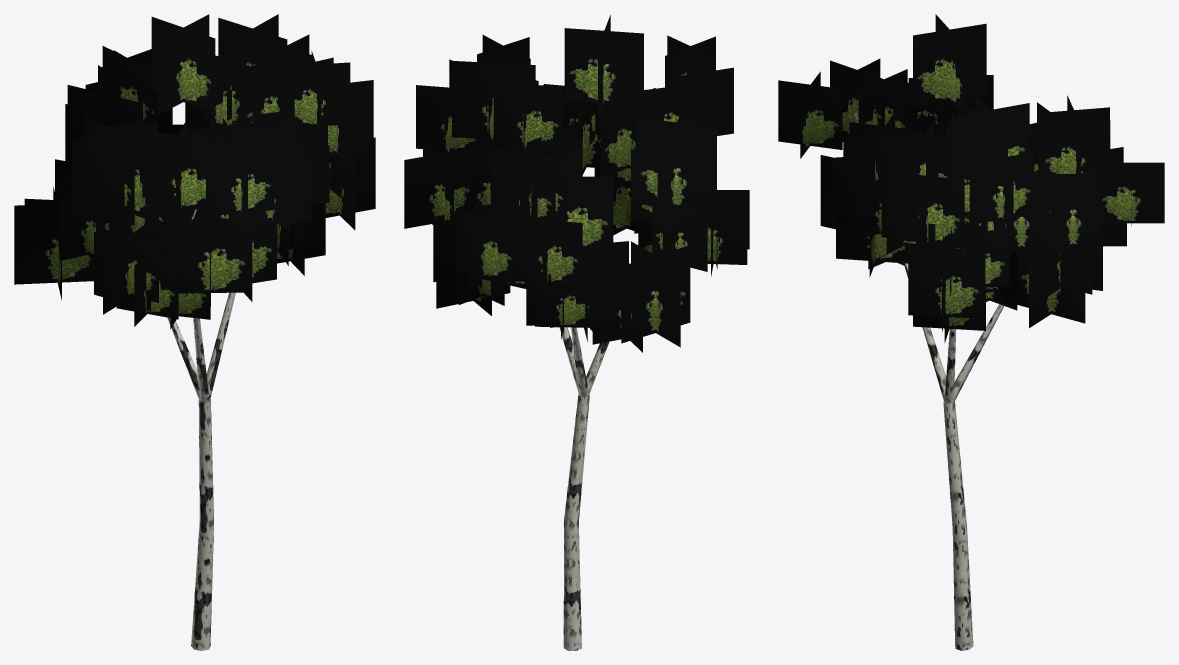
File: birch1_lod0.fbx
3 renders of one model, left to right at view 1: azimuth 30°, elevation 25°; view 2: azimuth 150°, elevation 25°; view 3: azimuth 270°, elevation 25°, orthographic. The views are drawn at different scales.
Visible parts, largest first — view 1: birch1_lod0; view 2: birch1_lod0; view 3: birch1_lod0.
Boxes of the visible parts, x1,y1,x2,y2 form: birch1_lod0: [14, 14, 375, 650]; birch1_lod0: [404, 15, 749, 650]; birch1_lod0: [778, 14, 1164, 650].
Bounding box in the file's own units: 7.58 × 14.66 × 8.47.
Materials: 2 (2 with a texture image).
